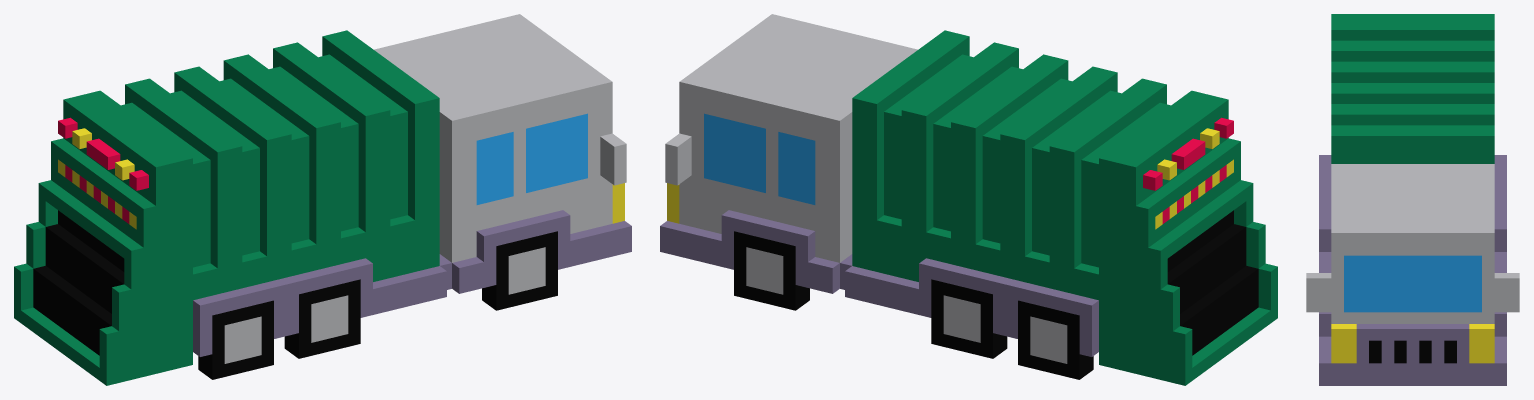
Rendered from garbage_truck.obj.
3 views of the same model, side by side, from view 1: azimuth 30°, elevation 25°; view 2: azimuth 150°, elevation 25°; view 3: azimuth 270°, elevation 25° (orthographic). The views are drawn at different scales.
Bounding box in the file's own units: 4.2 × 1.7 × 1.7.
1 material, 1 textured.
